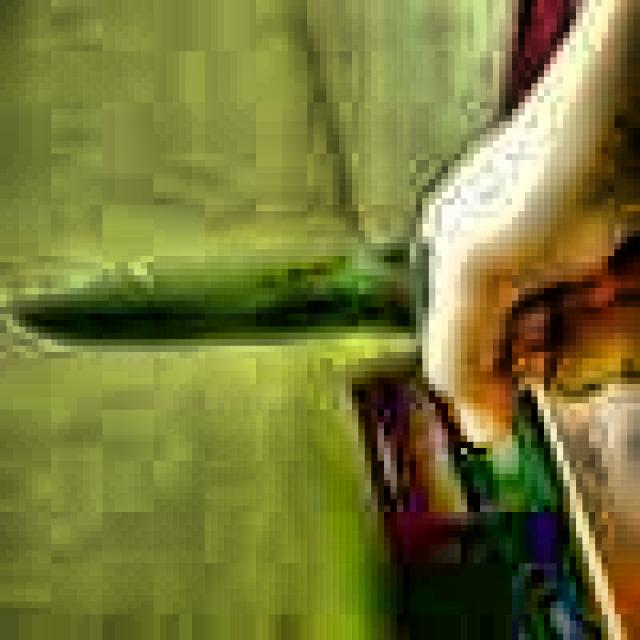knife: (25, 238, 633, 348)
